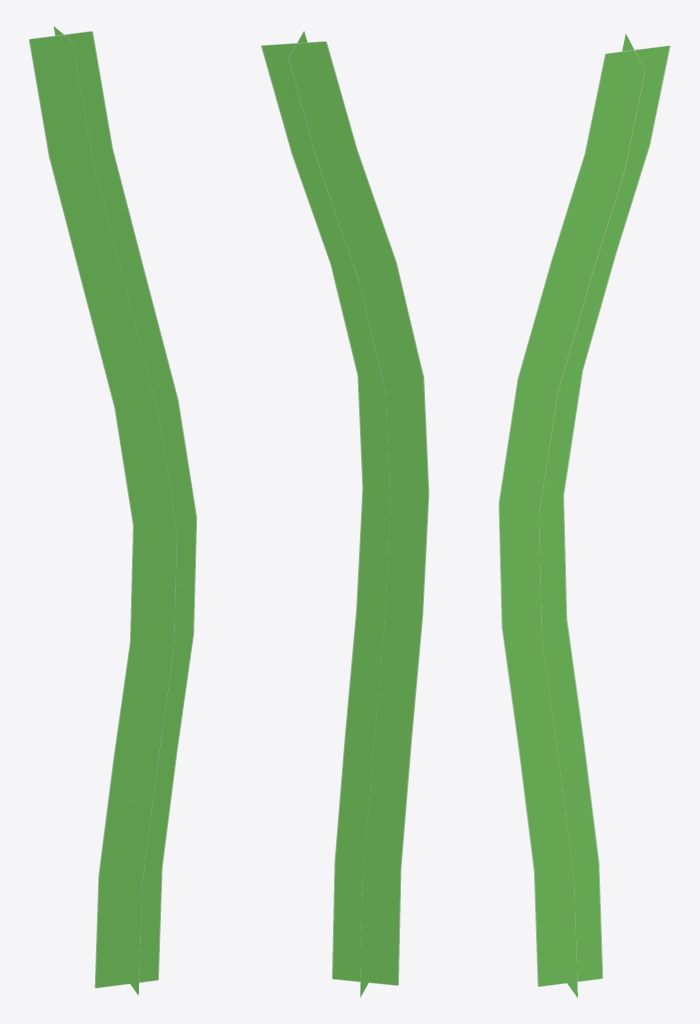
Rendered from TalloPlants_4.fbx.
3 renders of one model, left to right at view 1: azimuth 90°, elevation 25°; view 2: azimuth 150°, elevation 25°; view 3: azimuth 270°, elevation 25°, orthographic. The views are drawn at different scales.
Visible parts, largest first — view 1: TalloPlants_4; view 2: TalloPlants_4; view 3: TalloPlants_4.
Part boxes in pixels (x1,y1,x2,y2): TalloPlants_4: [29, 26, 197, 995]; TalloPlants_4: [261, 31, 429, 997]; TalloPlants_4: [498, 34, 670, 997].
Bounding box in the file's own units: 20.38 × 136 × 26.21.
